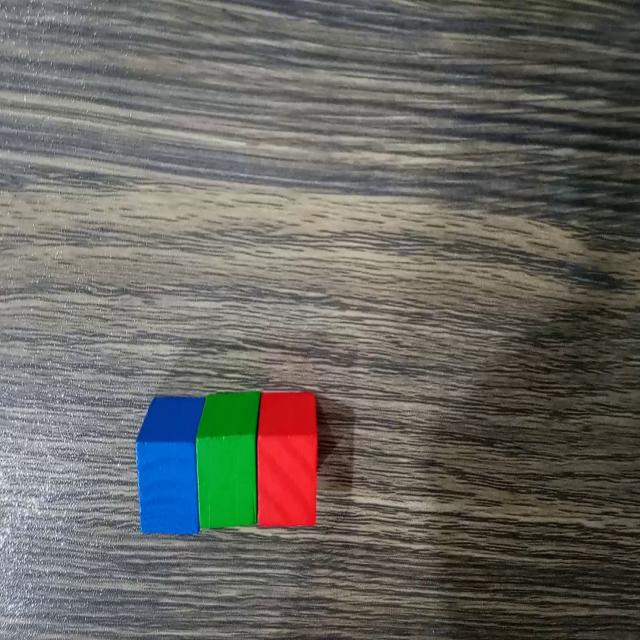cube: (132, 391, 197, 541), (257, 387, 320, 534), (197, 389, 258, 538)
